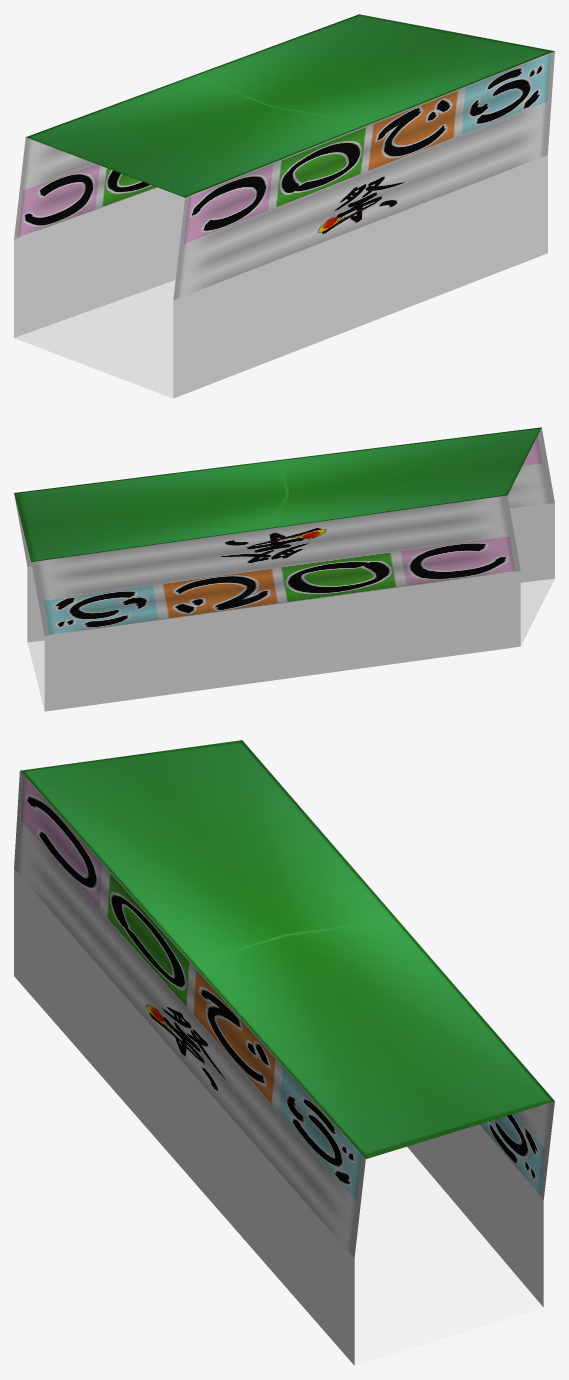
The model's file is CourseWinter_Wall_R_11_7.fbx.
3 views of the same model, one above another, from view 1: azimuth 30°, elevation 25°; view 2: azimuth 150°, elevation 25°; view 3: azimuth 270°, elevation 25° (orthographic). The views are drawn at different scales.
Parts seen in each view (by area): view 1: polySurface520; view 2: polySurface520; view 3: polySurface520.
Part boxes in pixels (x1,y1,x2,y2): polySurface520: (14, 14, 554, 398); polySurface520: (14, 427, 554, 711); polySurface520: (14, 740, 554, 1365).
Bounding box in the file's own units: 6.39 × 2.99 × 4.57.
Materials: 1 (1 with a texture image).
